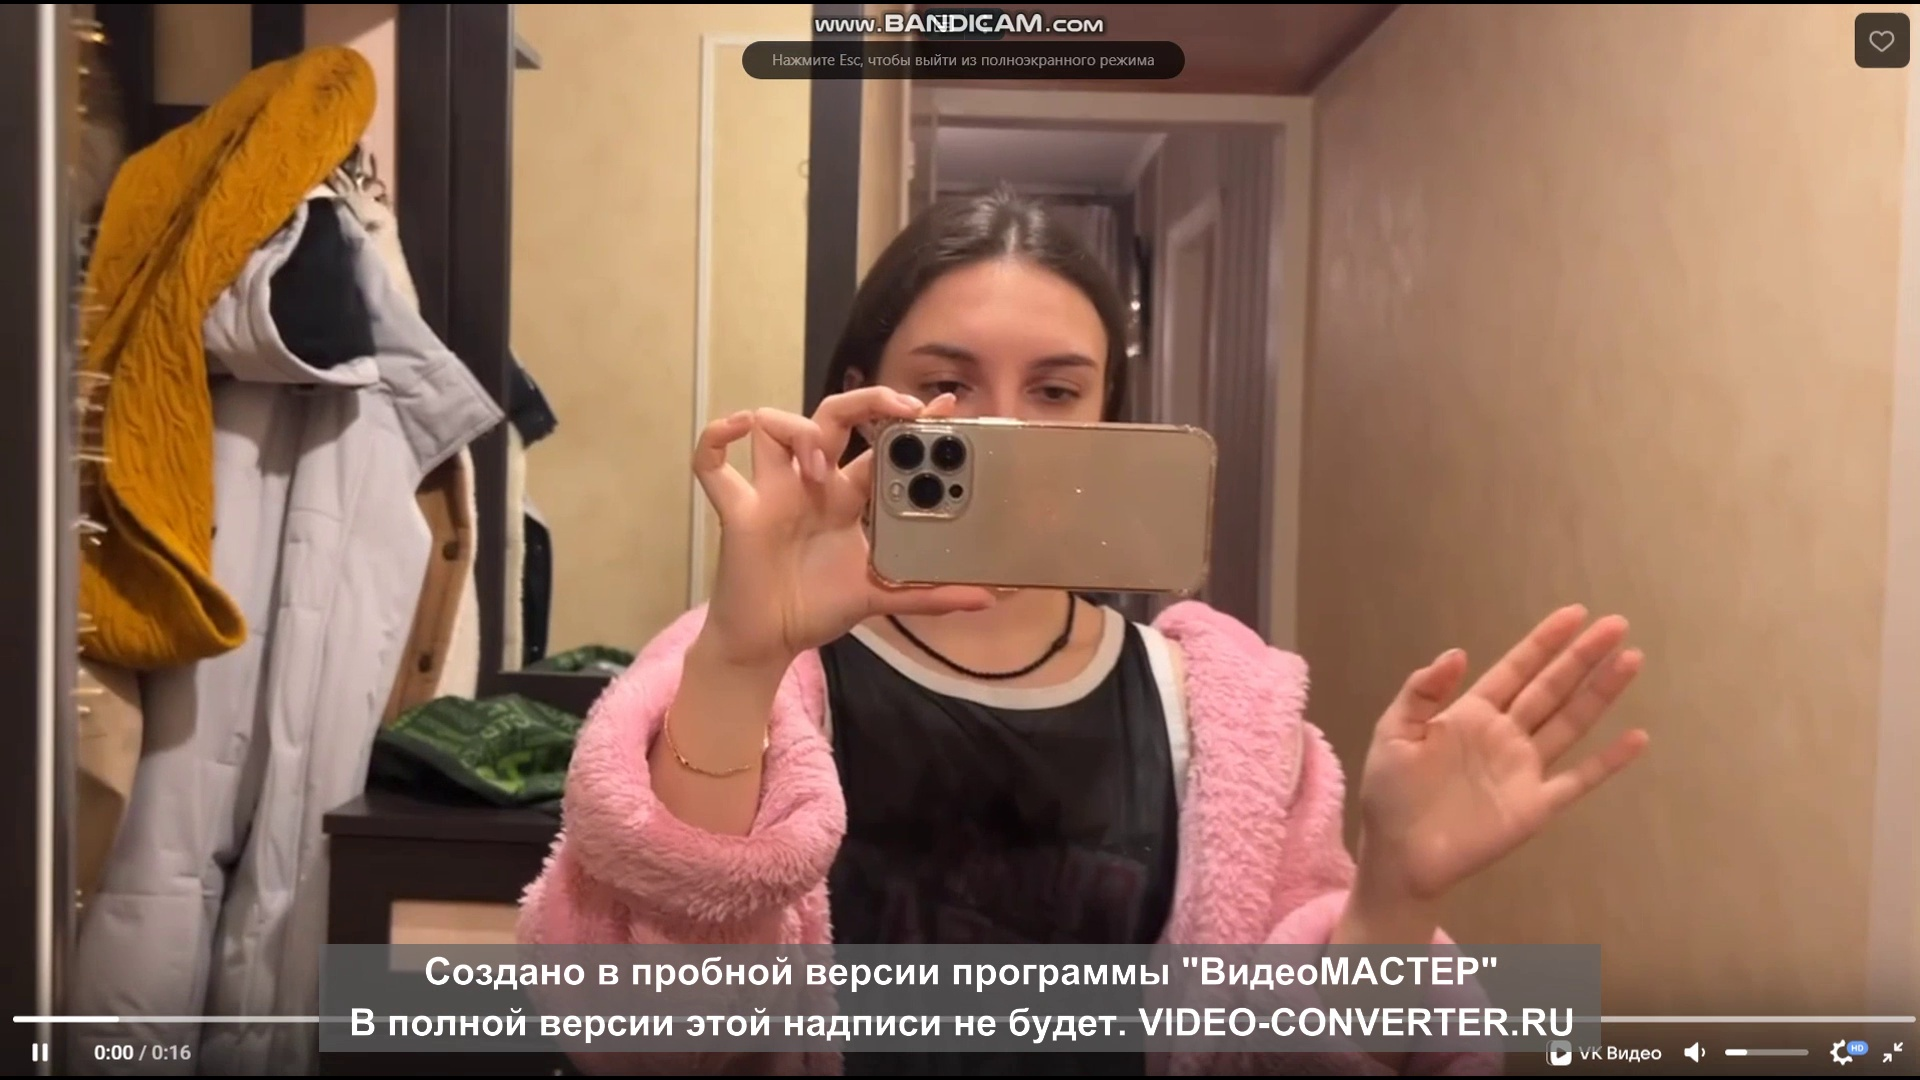Ладонь: (1357, 599, 1647, 901)
